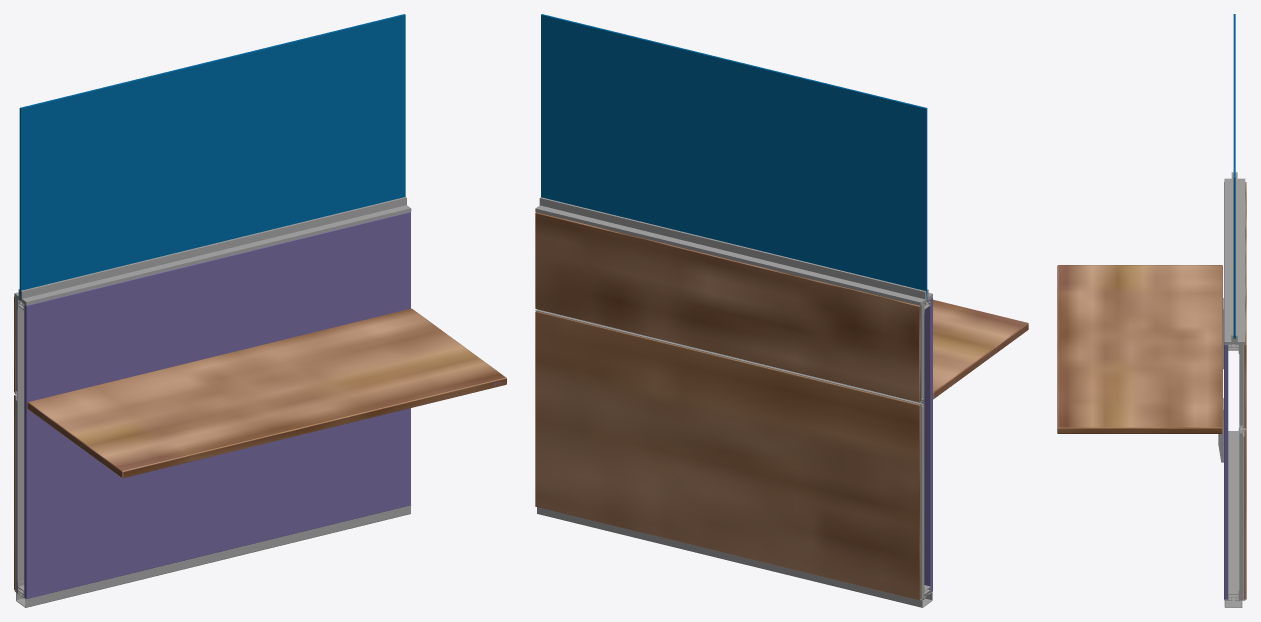
Rendered from Firstline_Counter_bar_single_FINAL.fbx.
The picture shows the model from 3 angles, left to right: view 1: azimuth 30°, elevation 25°; view 2: azimuth 150°, elevation 25°; view 3: azimuth 270°, elevation 25°; orthographic projection. The views are drawn at different scales.
Visible parts, largest first — view 1: back_mesh, szyba_mesh, DESKTOP_MESH, cos2:polySurface1, cos1:polySurface1, cos:polySurface1; view 2: DREWNO2_MESH1, szyba_mesh, DREWNO1_MESH, cos2:polySurface1, DESKTOP_MESH, cos1:polySurface1, cos:polySurface1, back_mesh; view 3: DESKTOP_MESH, cos1:polySurface1, cos2:polySurface1, back_mesh, szyba_mesh, DREWNO1_MESH, DREWNO2_MESH1.
Boxes of the visible parts, <box> form: back_mesh: <box>24,212,410,598</box>; szyba_mesh: <box>19,14,405,300</box>; DESKTOP_MESH: <box>27,308,506,478</box>; cos2:polySurface1: <box>14,197,411,304</box>; cos1:polySurface1: <box>14,211,502,599</box>; cos:polySurface1: <box>16,506,410,607</box>; DREWNO2_MESH1: <box>535,311,920,600</box>; szyba_mesh: <box>541,14,927,300</box>; DREWNO1_MESH: <box>535,212,920,402</box>; cos2:polySurface1: <box>535,197,932,305</box>; DESKTOP_MESH: <box>933,299,1028,399</box>; cos1:polySurface1: <box>535,211,932,600</box>; cos:polySurface1: <box>537,507,932,607</box>; back_mesh: <box>924,297,932,592</box>; DESKTOP_MESH: <box>1057,265,1222,433</box>; cos1:polySurface1: <box>1218,298,1245,601</box>; cos2:polySurface1: <box>1224,172,1245,344</box>; back_mesh: <box>1224,182,1228,599</box>; szyba_mesh: <box>1233,14,1235,338</box>; DREWNO1_MESH: <box>1244,182,1246,427</box>; DREWNO2_MESH1: <box>1244,428,1246,599</box>.
Bounding box in the file's own units: 140 × 172 × 68.61.
